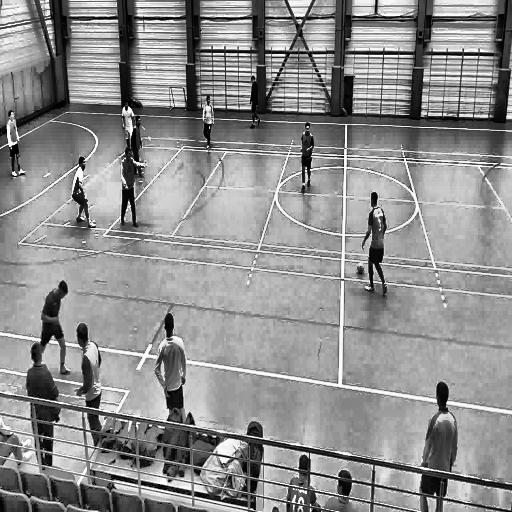ball: (356, 260, 366, 278)
player: (26, 342, 60, 468), (74, 321, 105, 445), (153, 312, 188, 420), (37, 277, 72, 377), (361, 190, 388, 301), (70, 156, 98, 231), (119, 148, 144, 229), (5, 106, 27, 180), (300, 118, 314, 194), (202, 91, 217, 154), (250, 75, 264, 133), (120, 97, 134, 153)
